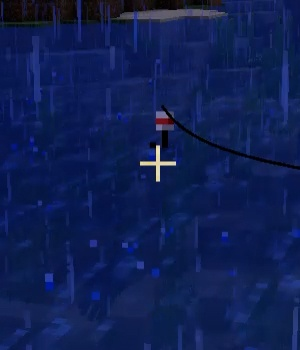up: (147, 107, 177, 150)
